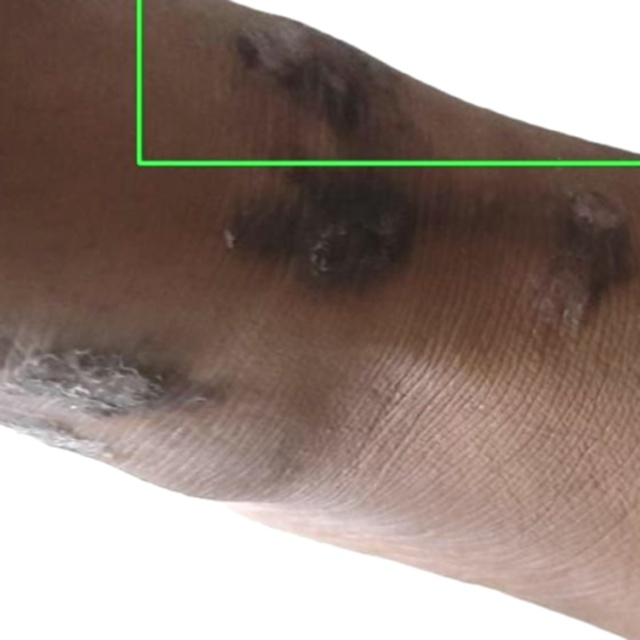Contact Dermatitis: (139, 0, 639, 163)
